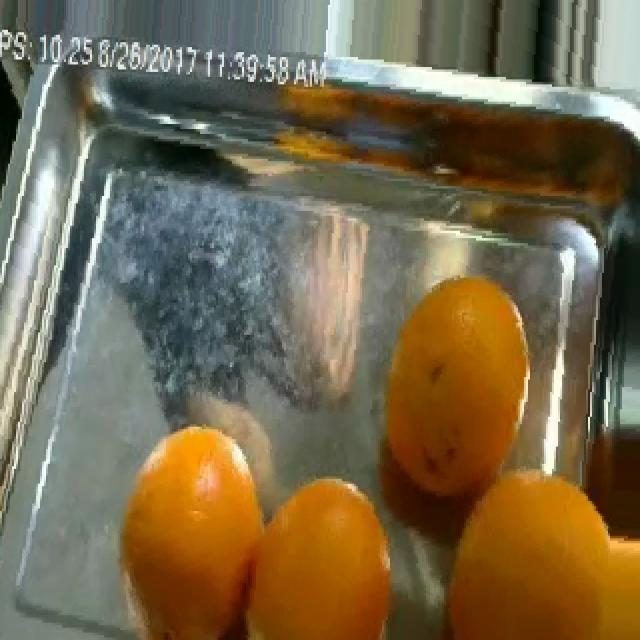Fruit: (572, 404, 640, 558)
